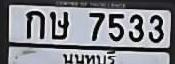3: (128, 13, 143, 41), (148, 14, 162, 42)
5: (108, 13, 123, 40)
7: (88, 12, 104, 40)
A01: (25, 10, 44, 38)
A39: (49, 10, 68, 39)
NBI: (59, 47, 118, 64)
